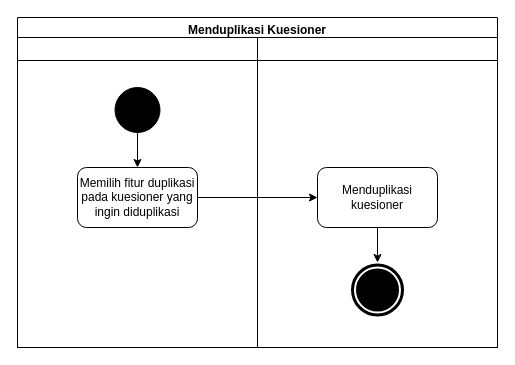
Some shapes in this 515 by 365 pixel diagram are drawn without their labels. The box of each missing label's shape, as (x1, y1, x2, y2) in pixels:
Member: (16, 36, 258, 348)
Sistem: (256, 36, 498, 348)
